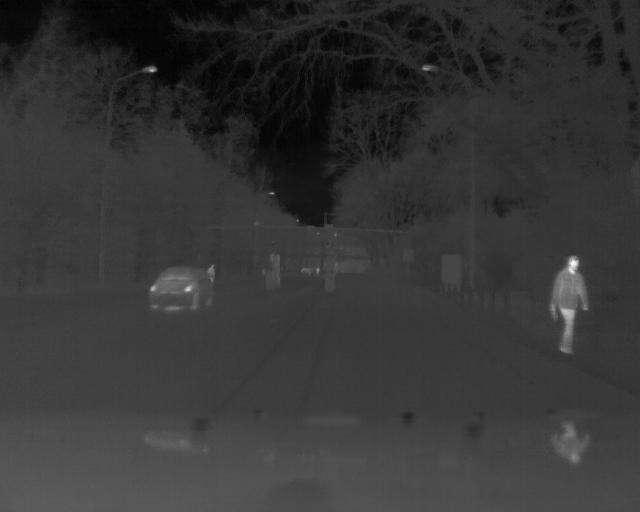car: (147, 265, 213, 315)
person: (546, 253, 591, 354)
